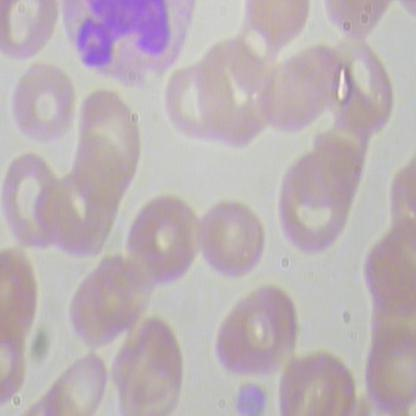Platelets: (233, 375, 269, 415)
RBC: (208, 275, 302, 382), (272, 156, 354, 263), (72, 87, 146, 202), (111, 315, 189, 415), (126, 192, 204, 288), (160, 60, 240, 150), (1, 149, 66, 259), (196, 198, 274, 289), (7, 57, 80, 151), (0, 245, 40, 353), (363, 332, 415, 415), (1, 1, 60, 63), (243, 1, 315, 49)
WBC: (54, 1, 202, 92)
